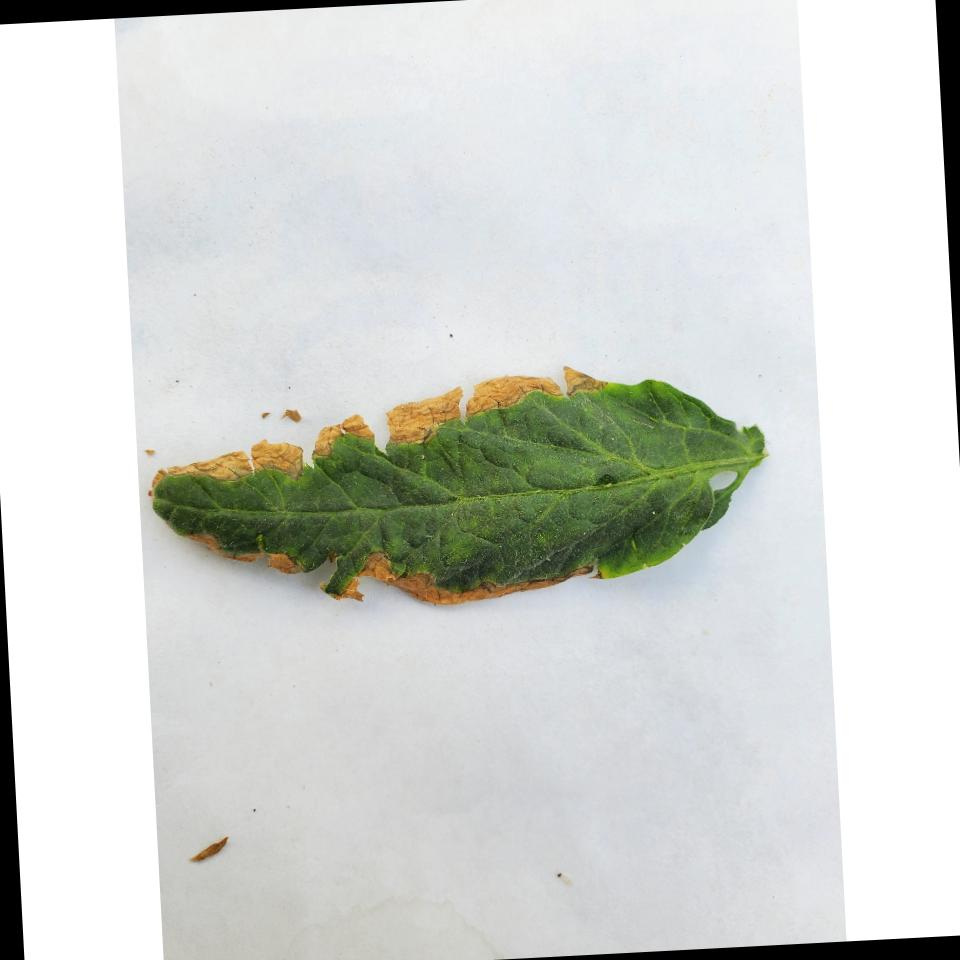tomato_bacterial_blight: (138, 351, 794, 624)
